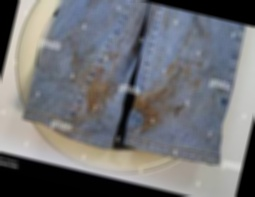earth: (130, 85, 169, 133), (79, 70, 116, 117)
